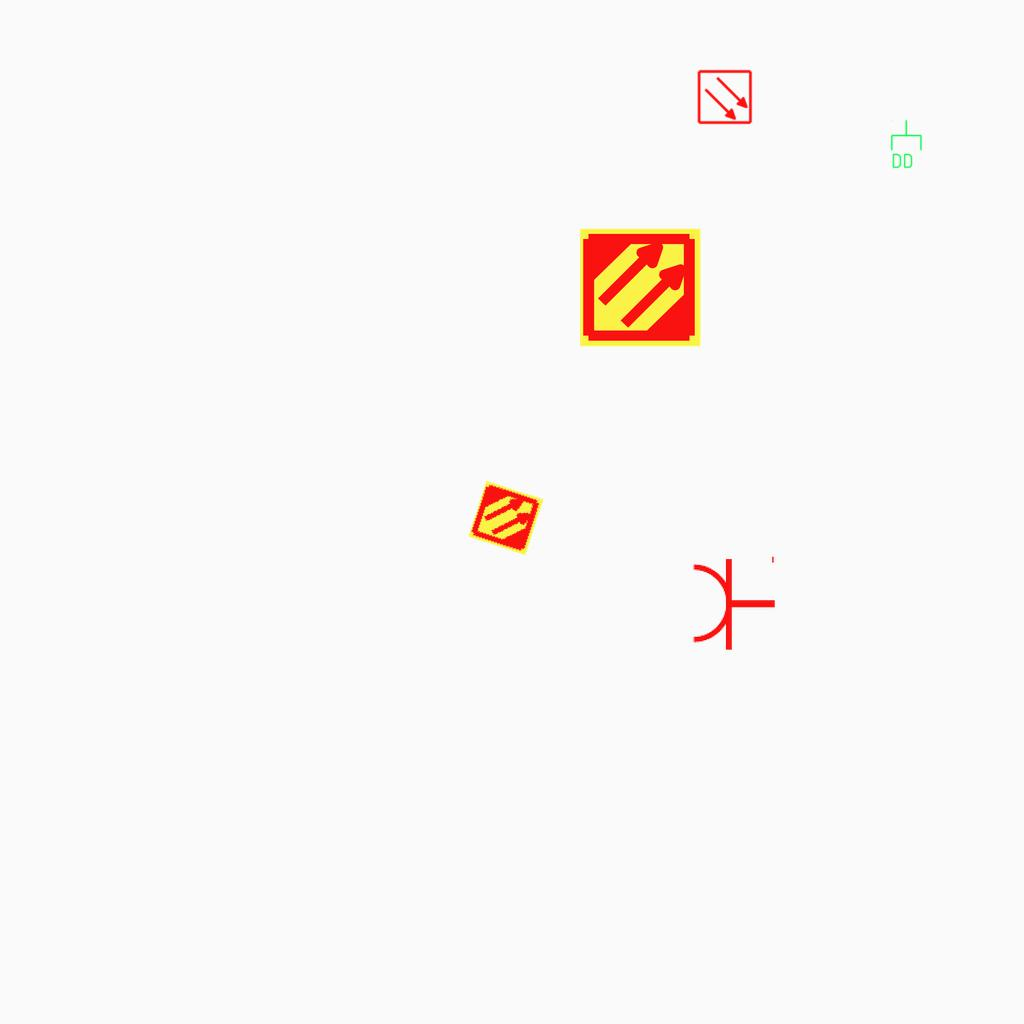ASR_Ansaugrauchmelder: (578, 225, 703, 350), (466, 478, 546, 558)
Datenanschluss_zweifach: (889, 119, 923, 170)
RMO_Rauchmelder_optischer: (697, 69, 753, 125)
Schukosteckdose_einfach: (690, 552, 777, 652)
